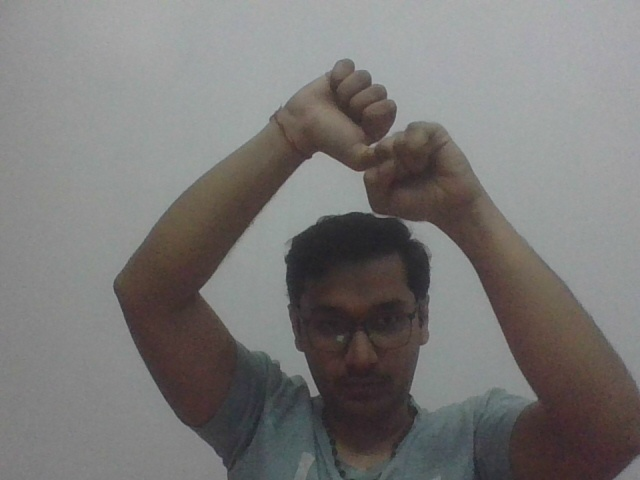S: (313, 54, 475, 218)
